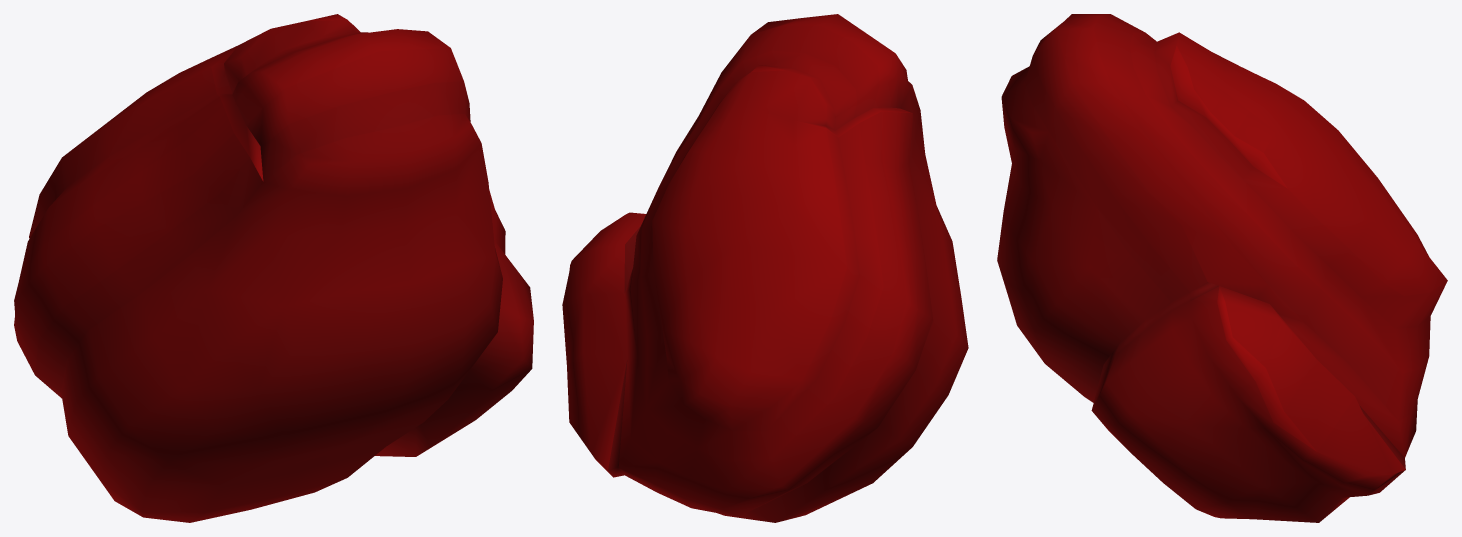
Rendered from geology-rocks-slantedrock_v2.fbx.
3 renders of one model, left to right at view 1: azimuth 30°, elevation 25°; view 2: azimuth 150°, elevation 25°; view 3: azimuth 270°, elevation 25°, orthographic. The views are drawn at different scales.
Visible parts, largest first — view 1: SlantedRock_v2; view 2: SlantedRock_v2; view 3: SlantedRock_v2.
Boxes of the visible parts, x1,y1,x2,y2 form: SlantedRock_v2: [14, 14, 533, 522]; SlantedRock_v2: [562, 14, 968, 522]; SlantedRock_v2: [997, 14, 1447, 522].
Size of the model in its own units: 11.36 by 12.8 by 11.24.
